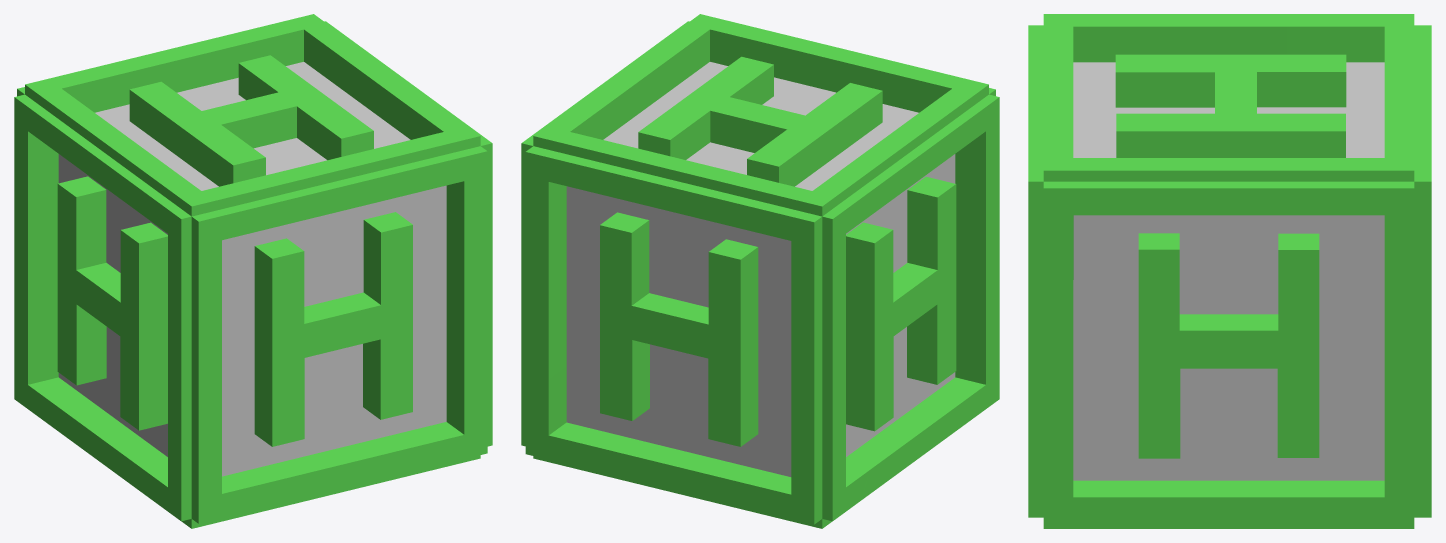
The model's file is H_Block.fbx.
3 views of the same model, side by side, from view 1: azimuth 30°, elevation 25°; view 2: azimuth 150°, elevation 25°; view 3: azimuth 270°, elevation 25° (orthographic). The views are drawn at different scales.
Visible parts, largest first — view 1: pCube29, pCube29.001; view 2: pCube29, pCube29.001; view 3: pCube29, pCube29.001.
Boxes of the visible parts, x1,y1,x2,y2 form: pCube29: [14, 14, 492, 528]; pCube29.001: [58, 62, 446, 476]; pCube29: [521, 14, 999, 528]; pCube29.001: [566, 62, 955, 476]; pCube29: [1028, 14, 1431, 528]; pCube29.001: [1073, 62, 1384, 480].
Size of the model in its own units: 53.88 by 53.34 by 54.44.
